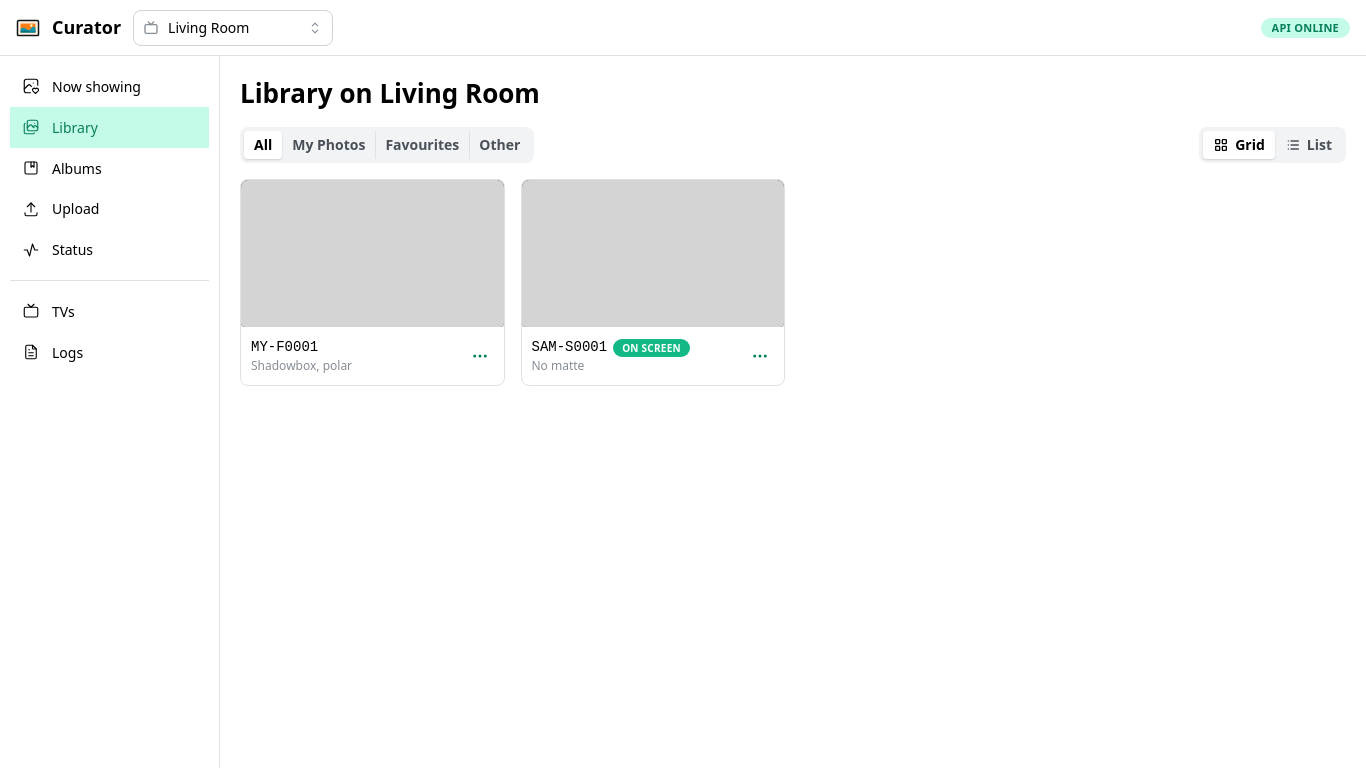
Test case: library › filters by category through the URL
Expected: the text "SAM-S0001" is shown, [532,337,607,358]
Click the radio button labelled "My Photos" at (329, 145), box [292,135,365,154]
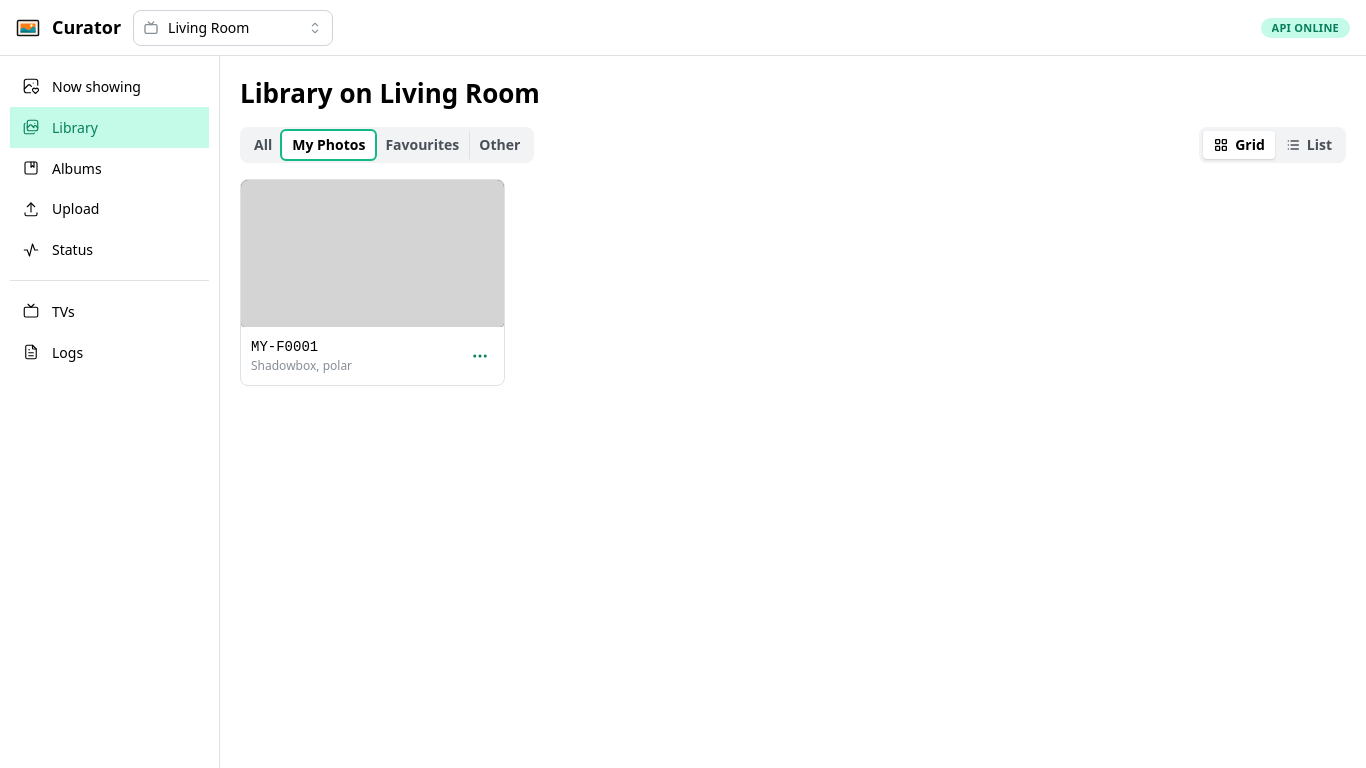
Now the text "SAM-S0001" is gone
